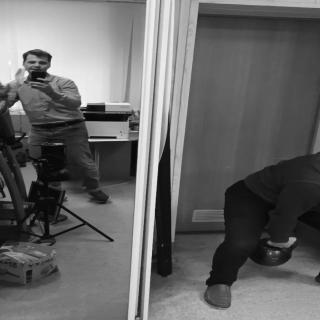girya: (252, 236, 298, 268)
